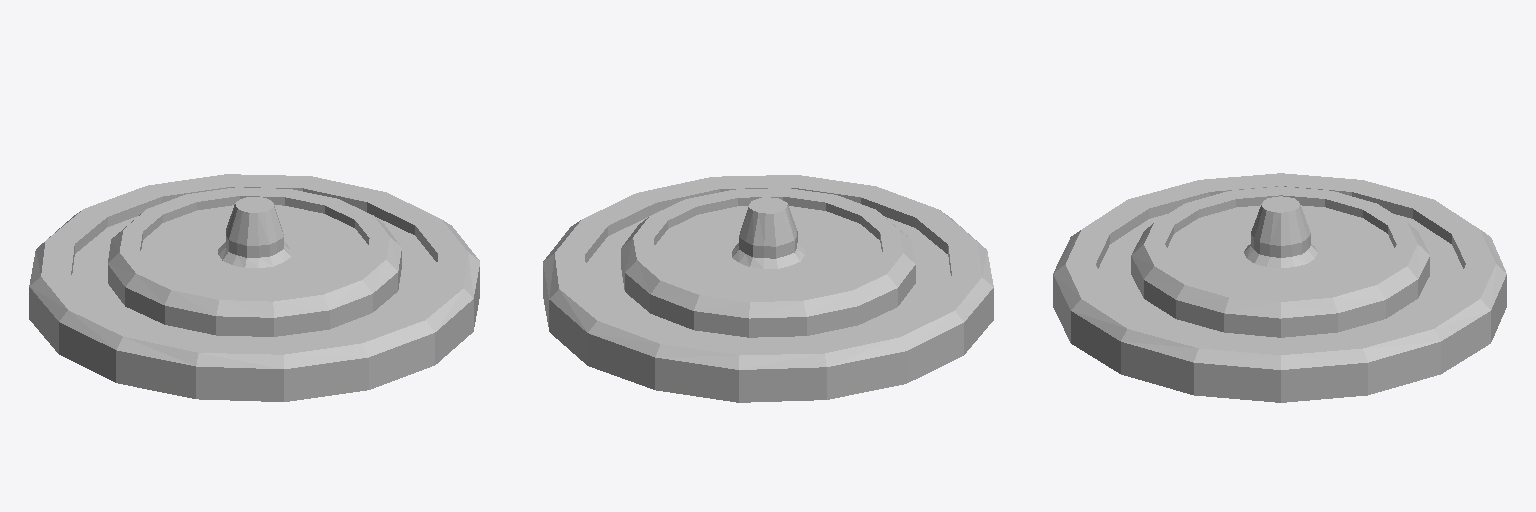
File: tris.obj
3 views of the same model, side by side, from view 1: azimuth 30°, elevation 25°; view 2: azimuth 150°, elevation 25°; view 3: azimuth 270°, elevation 25° (orthographic).
Parts seen in each view (by area): view 1: Group; view 2: Group; view 3: Group.
Part boxes in pixels (x1,y1,x2,y2): Group: (29,174,479,401); Group: (543,175,993,402); Group: (1053,173,1506,402).
Size of the model in its own units: 258 by 64 by 258.